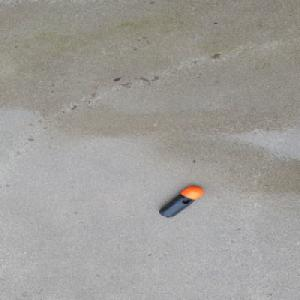PlasticPart: (158, 185, 205, 217)
